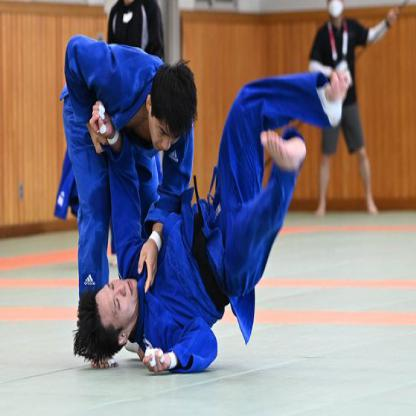Fall_Down: (75, 65, 348, 374)
